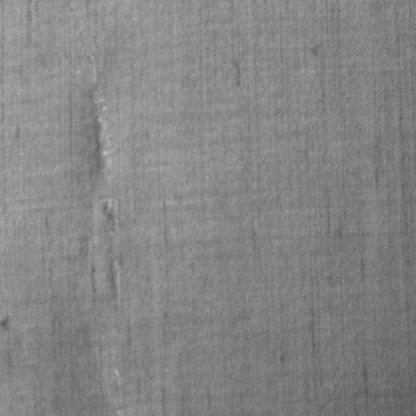thread error: (86, 49, 115, 181), (97, 195, 121, 310)
